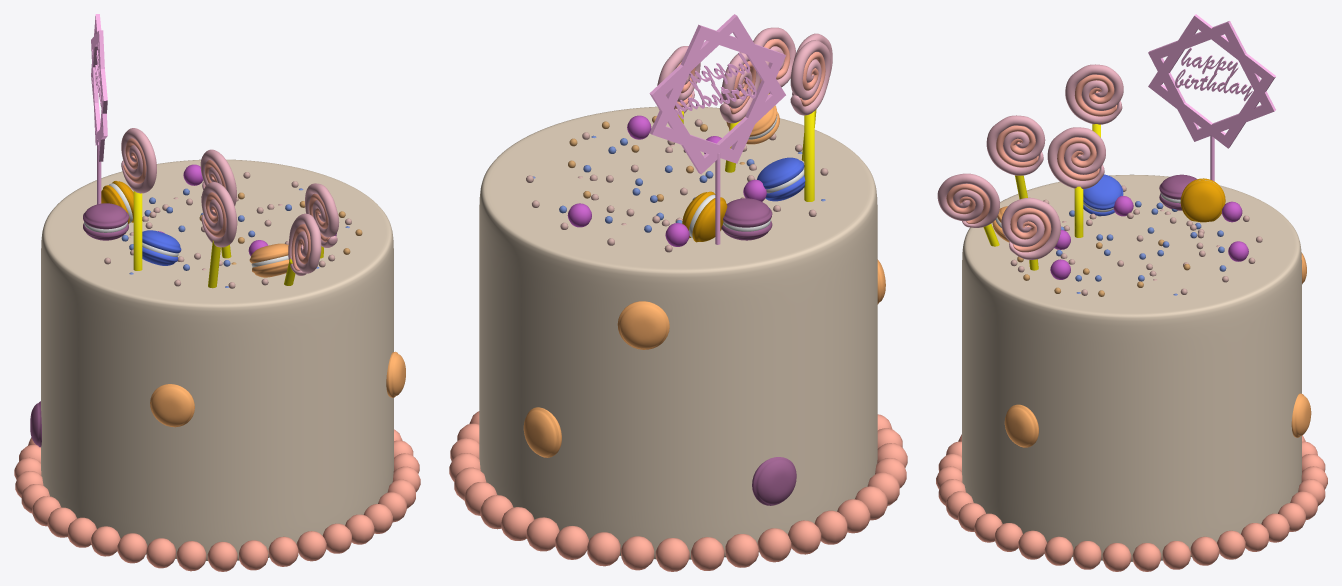
The model's file is Cake_Layer_1_Cream_Topper2_SpiralCandy_NoDrip.glb.
3 renders of one model, left to right at view 1: azimuth 30°, elevation 25°; view 2: azimuth 150°, elevation 25°; view 3: azimuth 270°, elevation 25°, orthographic. The views are drawn at different scales.
Visible parts, largest first — view 1: Circle, Sphere, Cylinder.006, Torus.005, Spiral.006, Spiral.004, Spiral.008, Torus.003, Spiral.010, Torus.013, Sphere.004, Torus.011 (+7 smaller); view 2: Circle, Sphere, Cylinder.006, Torus.009, Spiral.004, Torus.010, Torus.003, Torus.007, Torus.013, Sphere.004, Torus.001, Spiral.002 (+6 smaller); view 3: Circle, Sphere, Cylinder.006, Spiral.002, Spiral.010, Spiral.006, Spiral.004, Spiral.008, Torus.001, Torus.006, Sphere.004, Torus.013 (+9 smaller).
Part boxes in pixels (box(x1,y1,x2,y2)): Circle: box(41, 159, 393, 560); Sphere: box(14, 429, 420, 571); Cylinder.006: box(91, 14, 107, 204); Torus.005: box(150, 384, 194, 427); Spiral.006: box(201, 182, 237, 247); Spiral.004: box(121, 128, 156, 193); Spiral.008: box(288, 213, 321, 275); Torus.003: box(83, 203, 128, 240); Spiral.010: box(305, 183, 339, 247); Torus.013: box(142, 230, 181, 265); Sphere.004: box(104, 172, 351, 288); Torus.011: box(249, 243, 288, 277); Circle: box(479, 106, 877, 559); Sphere: box(449, 411, 907, 571); Cylinder.006: box(649, 14, 785, 244); Torus.009: box(617, 301, 669, 349); Spiral.004: box(790, 40, 830, 115); Torus.010: box(752, 457, 796, 505); Torus.003: box(721, 198, 772, 240); Torus.007: box(523, 407, 561, 457); Torus.013: box(757, 157, 805, 201); Sphere.004: box(526, 119, 828, 252); Torus.001: box(682, 191, 727, 242); Spiral.002: box(719, 52, 760, 123); Circle: box(962, 174, 1301, 561); Sphere: box(936, 434, 1327, 571); Cylinder.006: box(1148, 14, 1275, 181); Spiral.002: box(1047, 127, 1105, 189); Spiral.010: box(1001, 197, 1060, 259); Spiral.006: box(986, 115, 1045, 175); Spiral.004: box(1065, 64, 1123, 124); Spiral.008: box(937, 173, 999, 227); Torus.001: box(1180, 178, 1225, 222); Torus.006: box(1004, 404, 1038, 447); Sphere.004: box(1010, 185, 1262, 295); Torus.013: box(1083, 174, 1123, 215).
Size of the model in its own units: 0.1712 by 0.213 by 0.1718.
